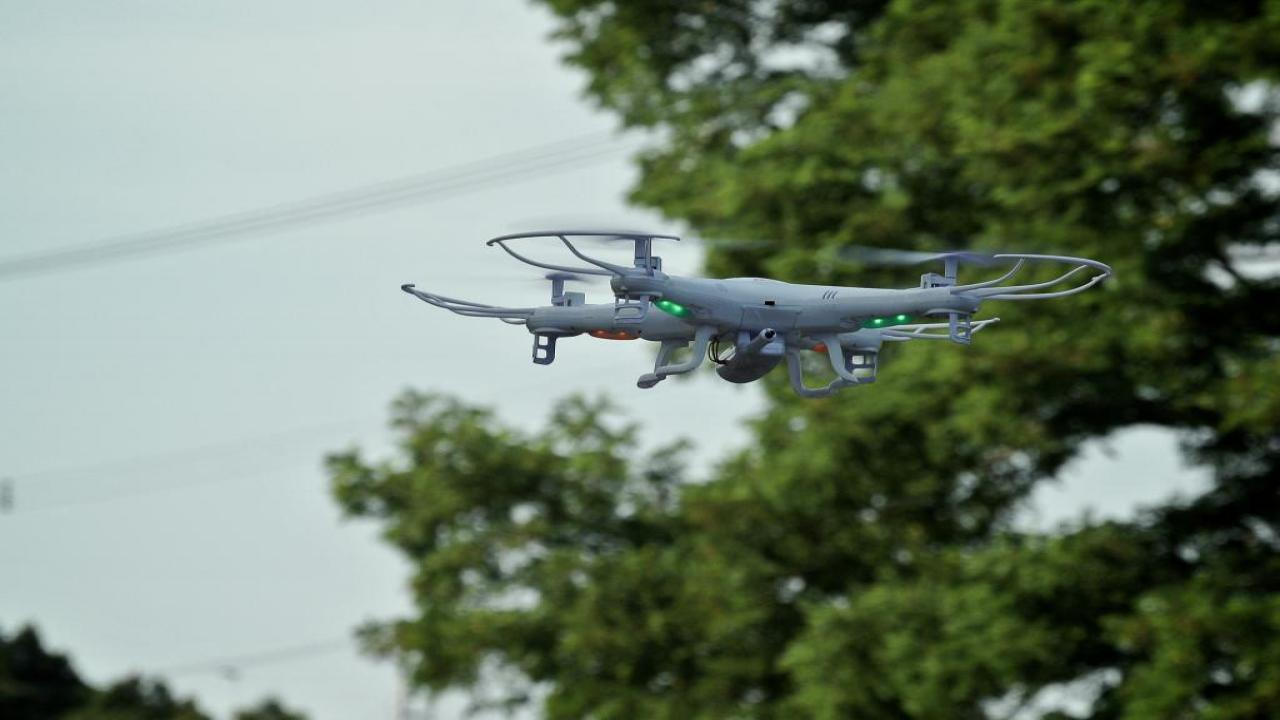Drone: (392, 220, 1127, 404)
